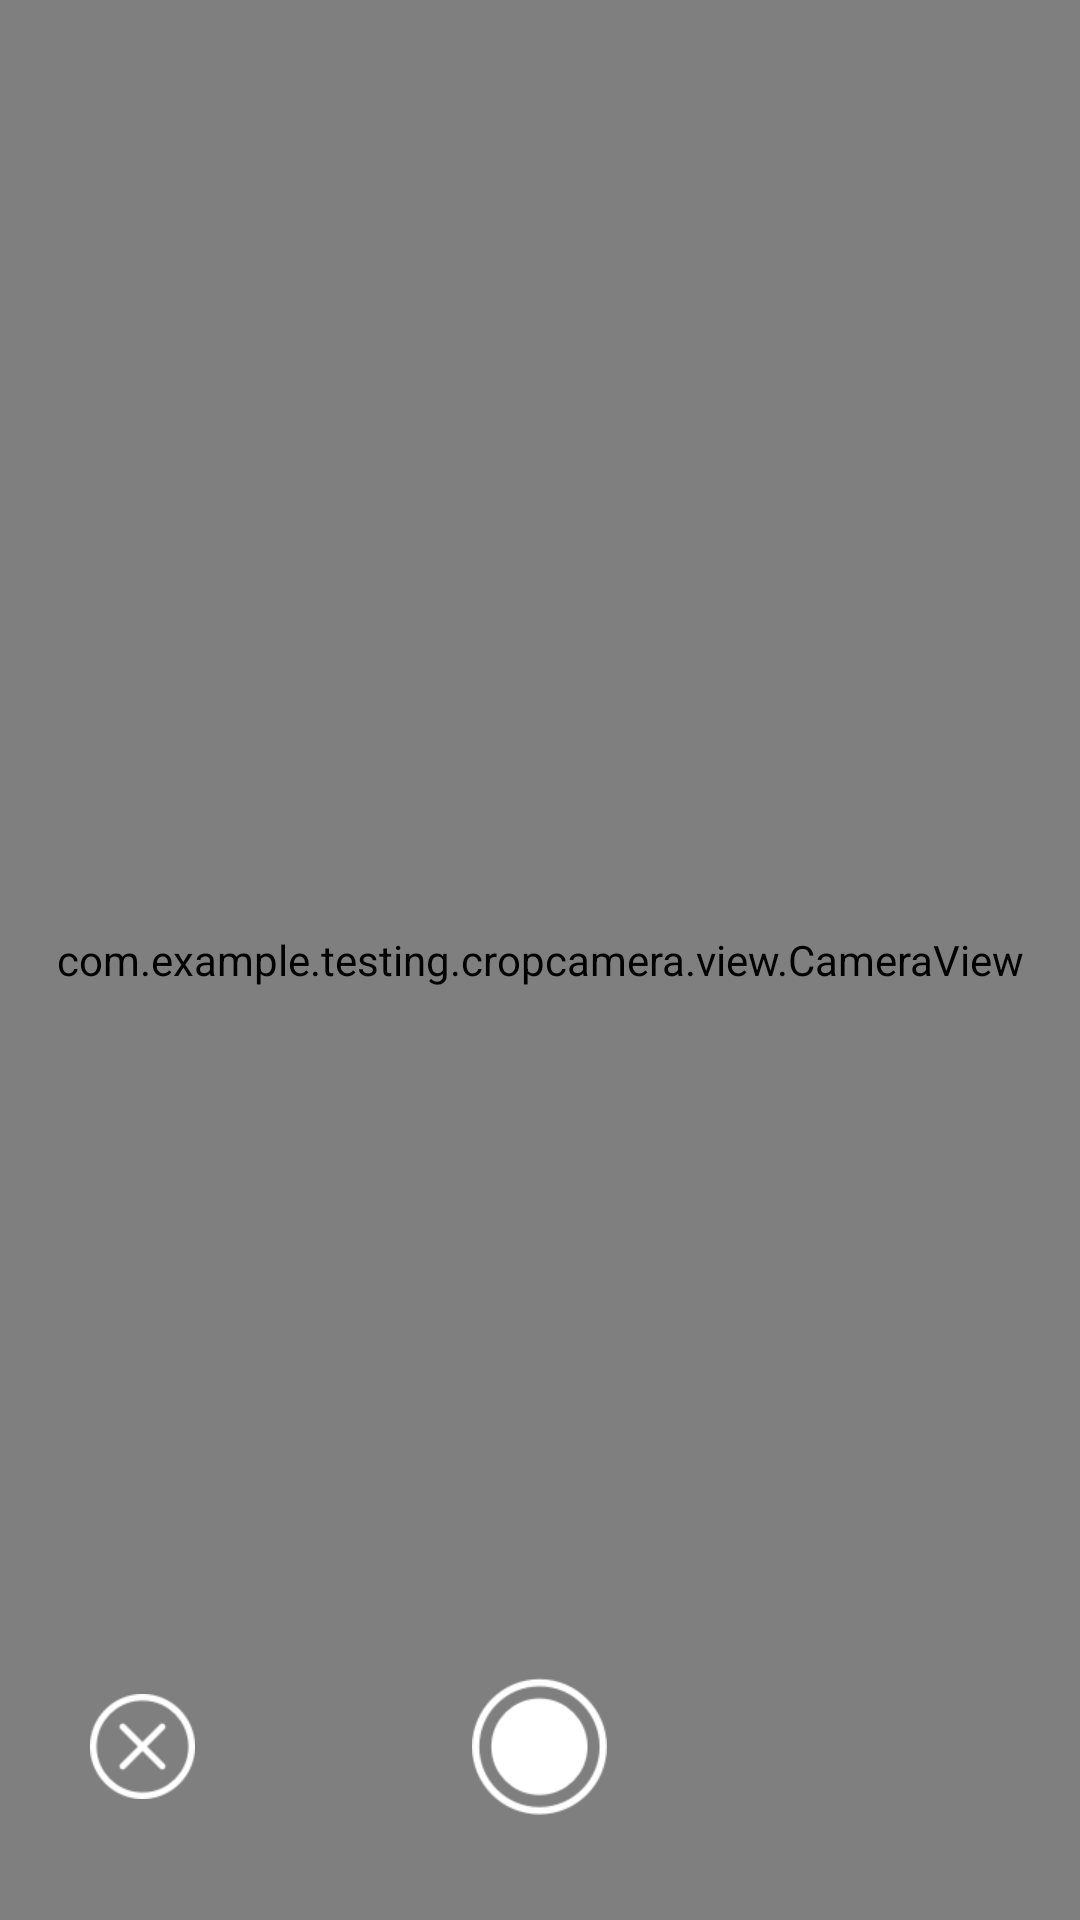

Screen size 1080*1920. Icon name, then its center in pixels as (x,y):
select cancel: (142,1746)
take picture: (539,1746)
